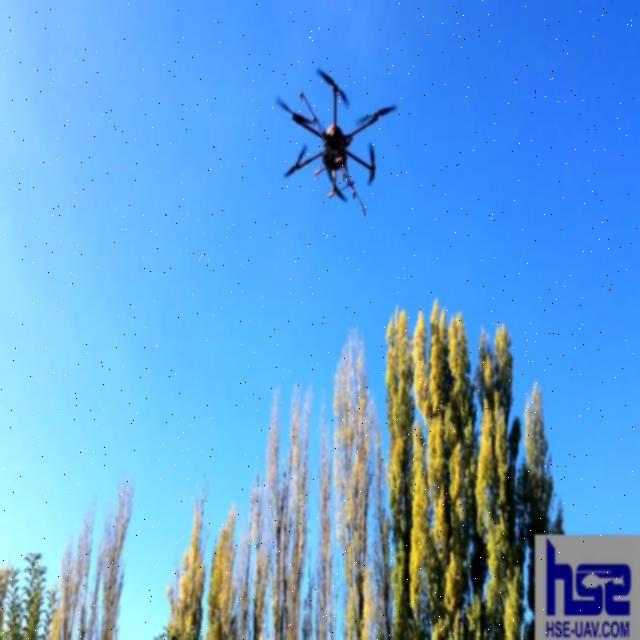UAV: (282, 66, 394, 215)
